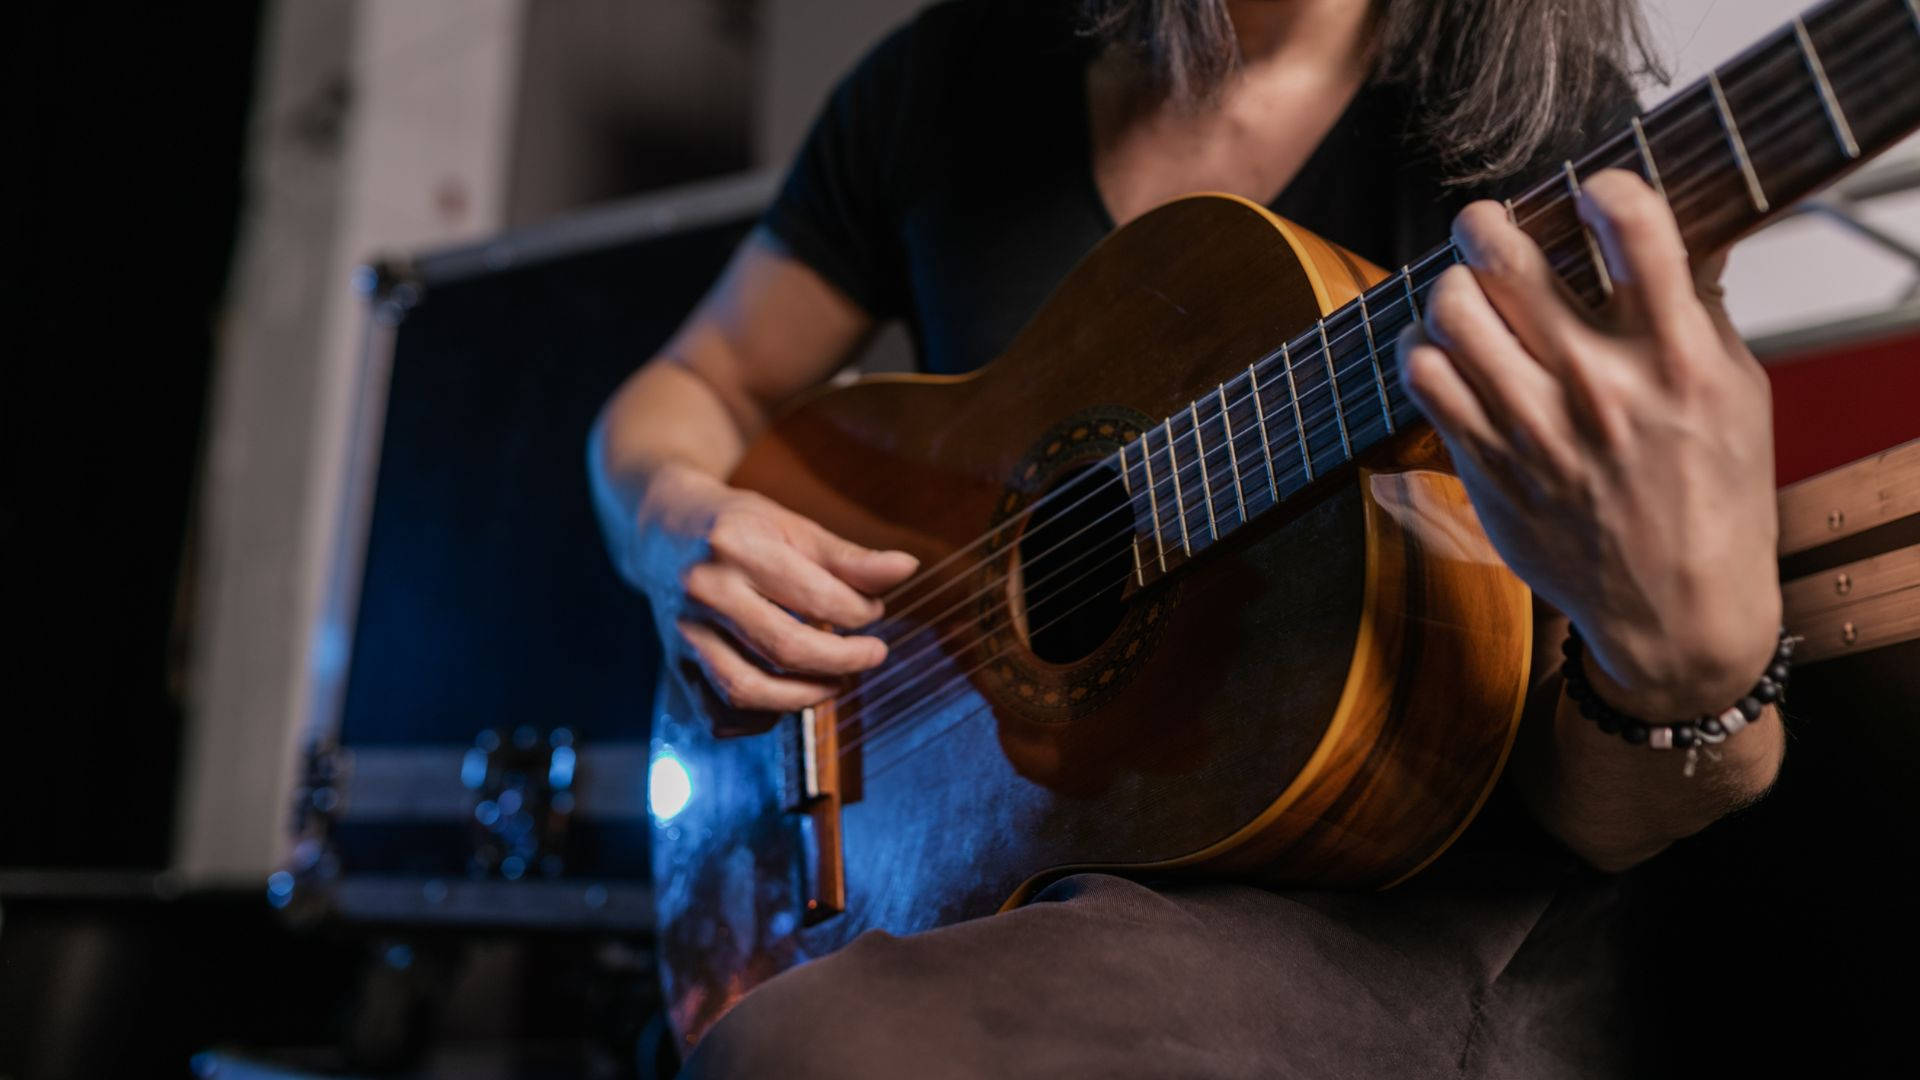guitar: (612, 0, 1920, 1069)
